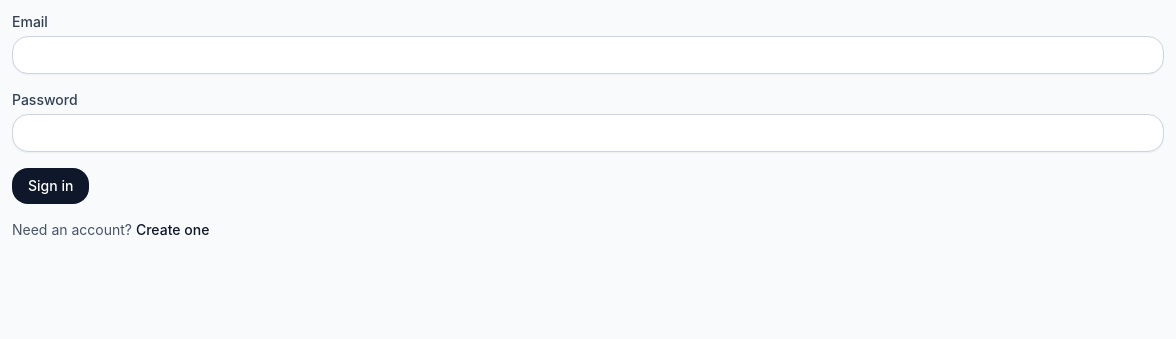
Test: LoginForm API errors › shows invalid credentials message for 401 responses
Type "buyer@example.com" into the field labelled "Email" at point(588, 55), box [12,36,1164,74]
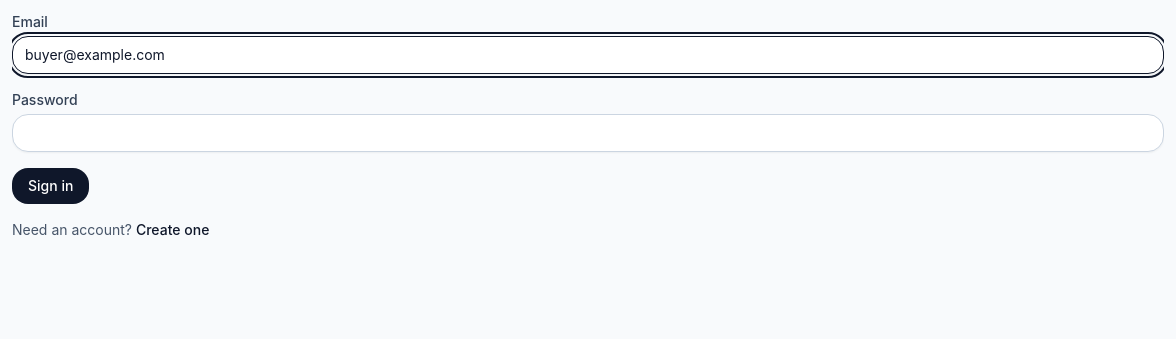
Type "wrong-password" into the password field labelled "Password" at point(588, 133), box [12,114,1164,152]
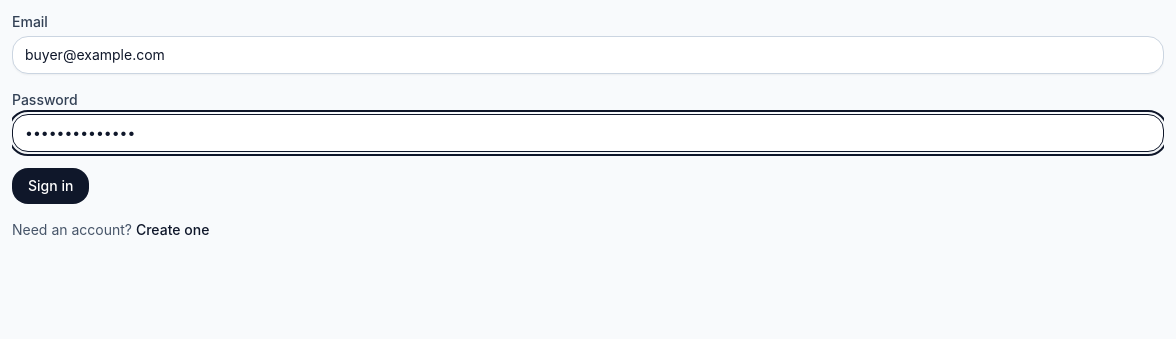
Click the button "Sign in" at point(51, 186), box [12,168,89,204]
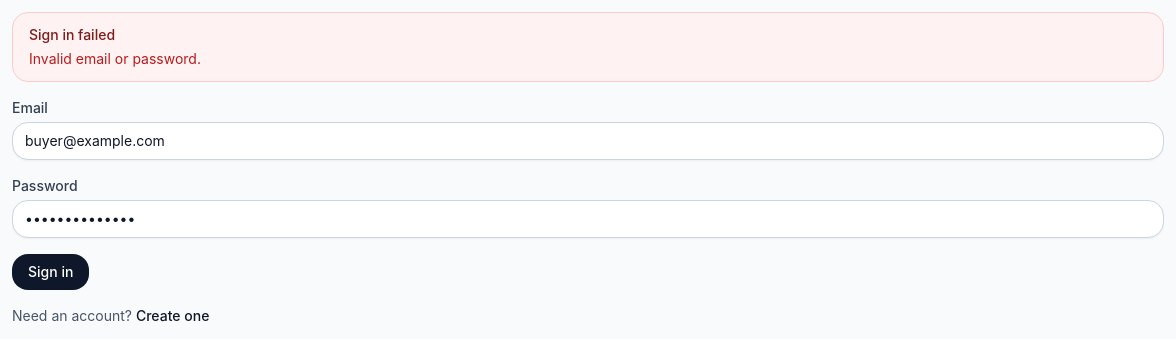
Expected: the text "Invalid email or password." is shown, [29,50,201,67]
